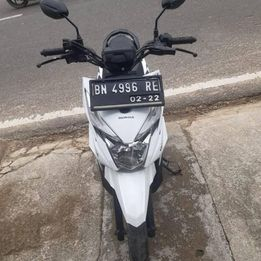plate: (90, 79, 163, 106)
